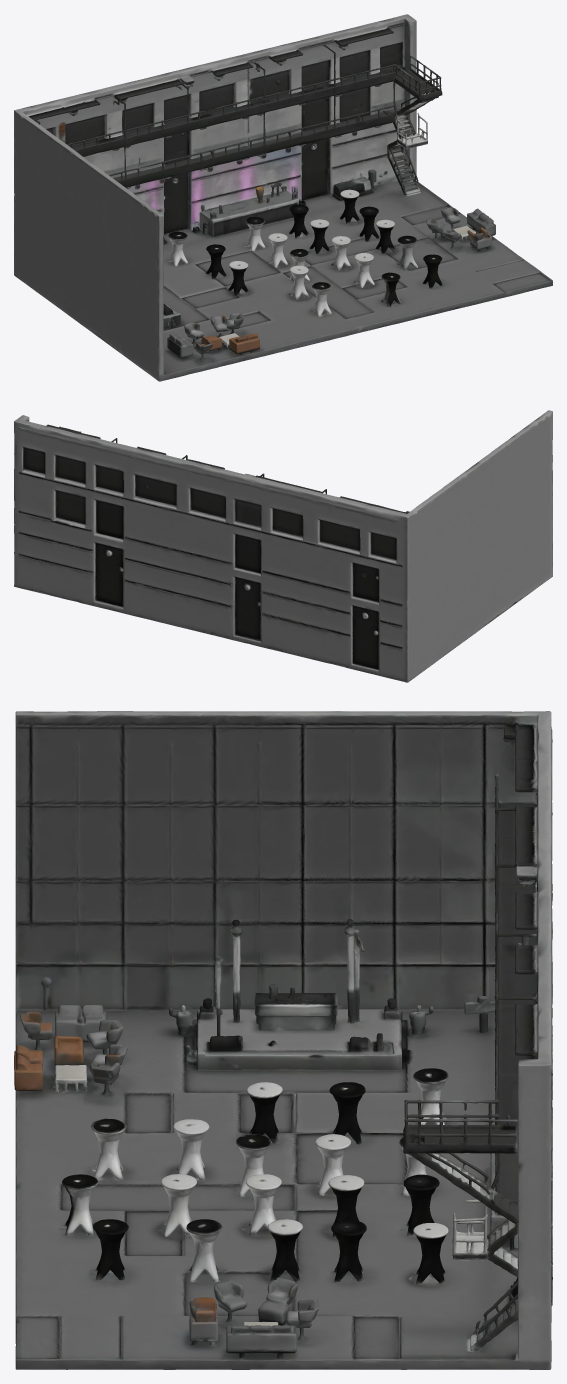
File: pidu.glb
3 views of the same model, one above another, from view 1: azimuth 30°, elevation 25°; view 2: azimuth 150°, elevation 25°; view 3: azimuth 270°, elevation 25° (orthographic). The views are drawn at different scales.
Visible parts, largest first — view 1: tripo_node_d43da62e-b055-4f0d-99fe-9d456135b0af; view 2: tripo_node_d43da62e-b055-4f0d-99fe-9d456135b0af; view 3: tripo_node_d43da62e-b055-4f0d-99fe-9d456135b0af.
Part boxes in pixels (x1,y1,x2,y2): tripo_node_d43da62e-b055-4f0d-99fe-9d456135b0af: (14, 14, 552, 381); tripo_node_d43da62e-b055-4f0d-99fe-9d456135b0af: (14, 410, 552, 682); tripo_node_d43da62e-b055-4f0d-99fe-9d456135b0af: (14, 711, 552, 1369).
Size of the model in its own units: 1 by 0.4017 by 0.6422.
1 material, 1 textured.
